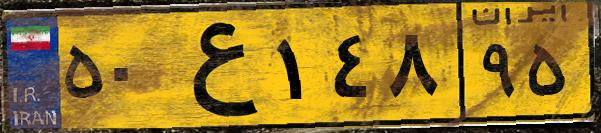0: (110, 28, 158, 98)
1: (270, 28, 330, 110)
4: (330, 28, 385, 110)
5: (57, 26, 110, 100), (525, 38, 570, 115)
8: (385, 28, 445, 110)
9: (475, 38, 525, 113)
ع: (158, 12, 270, 120)
